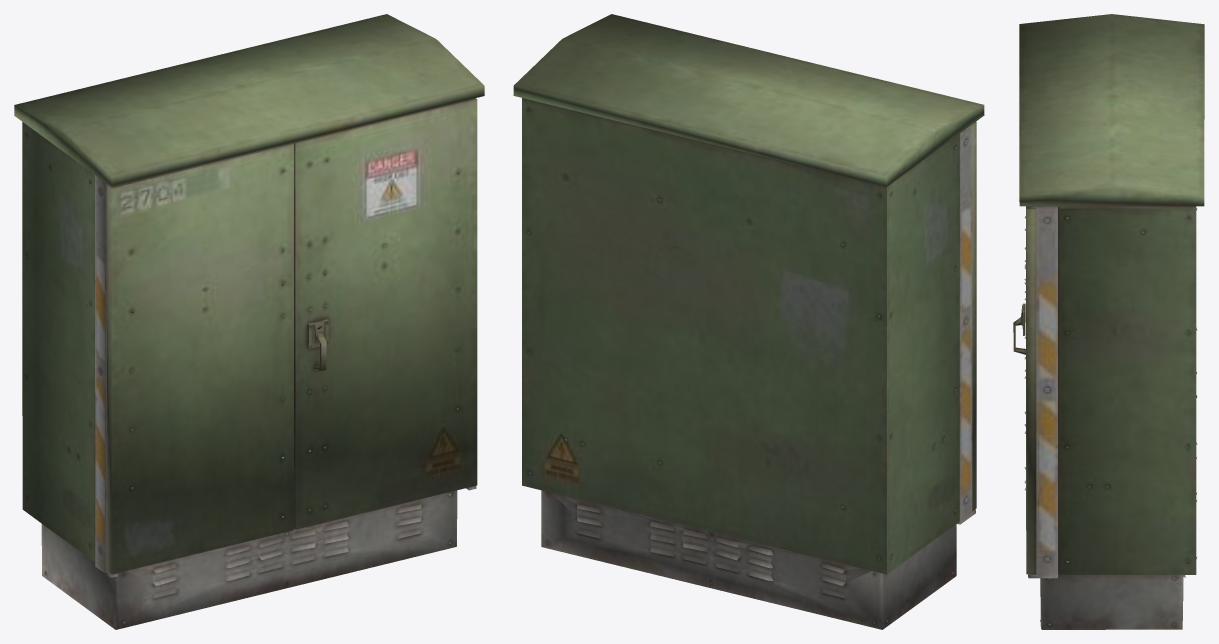
File: utility_box_02.glb
3 renders of one model, left to right at view 1: azimuth 30°, elevation 25°; view 2: azimuth 150°, elevation 25°; view 3: azimuth 270°, elevation 25°, orthographic. The views are drawn at different scales.
Parts seen in each view (by area): view 1: utility_box_02; view 2: utility_box_02; view 3: utility_box_02.
Part boxes in pixels (x1,y1,x2,y2): utility_box_02: [14, 14, 484, 629]; utility_box_02: [513, 14, 984, 629]; utility_box_02: [1013, 14, 1204, 629].
Size of the model in its own units: 0.9175 by 1.12 by 0.4298.
Materials: 1 (1 with a texture image).
